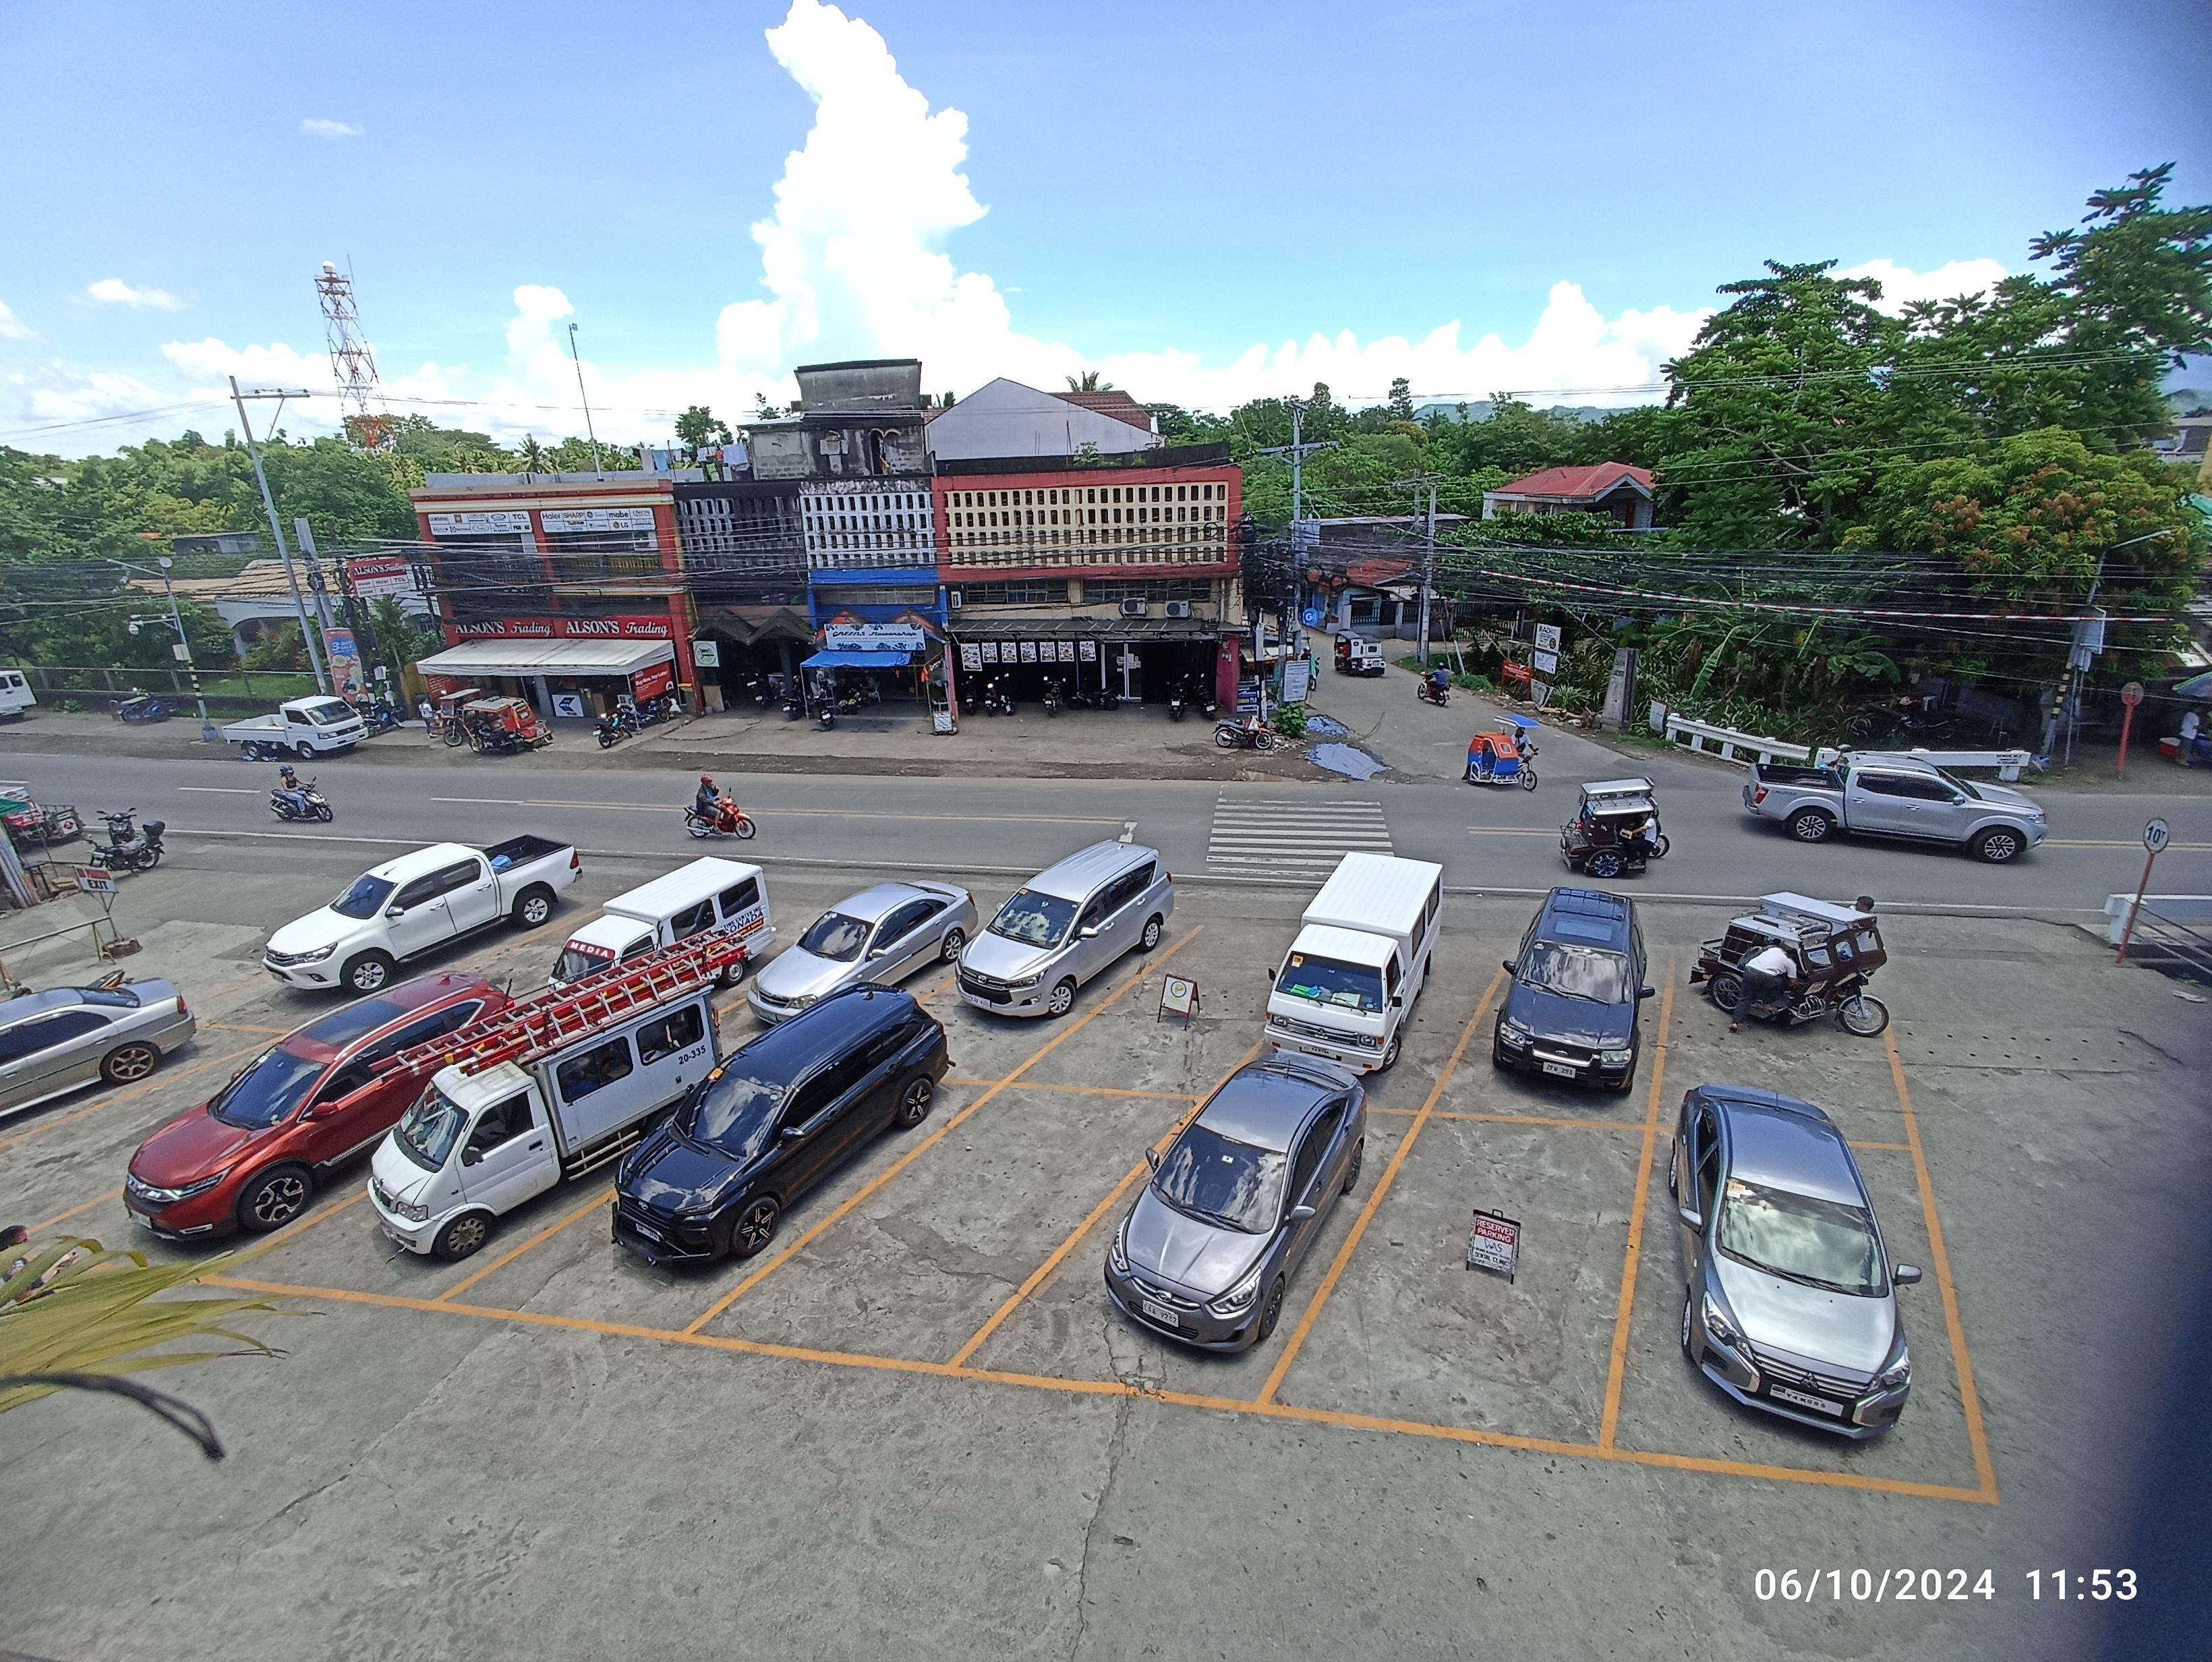occupied: (416, 1054, 1027, 1350), (934, 1096, 1433, 1418), (1601, 1128, 1997, 1508), (1247, 1110, 1653, 1461), (985, 922, 1351, 1110), (1185, 944, 1522, 1126), (1407, 957, 1681, 1137)
vacant: (667, 1070, 1233, 1383)
